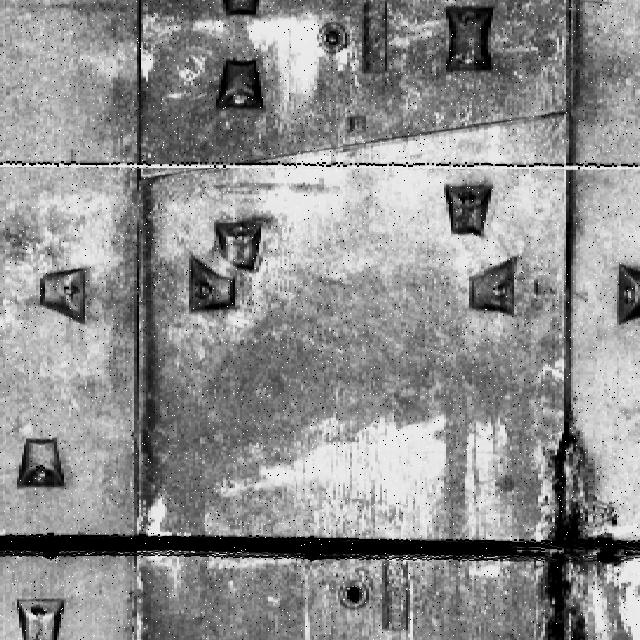leakage: (507, 427, 637, 640)
